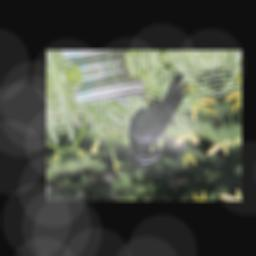Crow: (111, 70, 213, 166)
